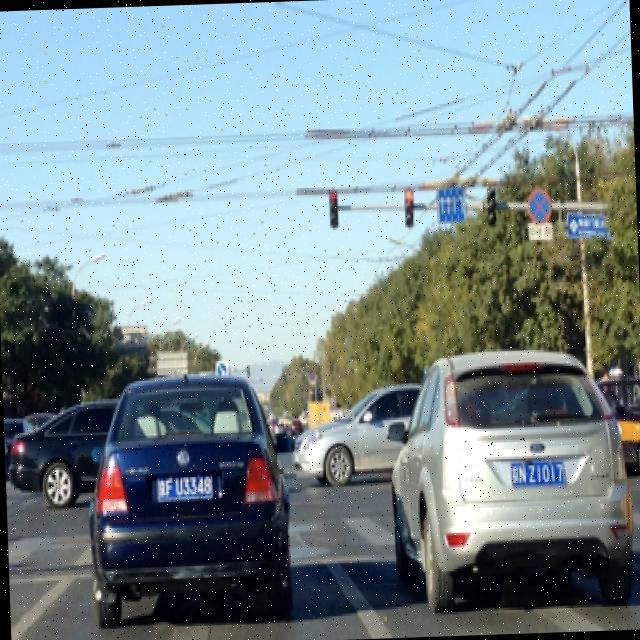Autre: (154, 474, 218, 504), (511, 460, 566, 491)
